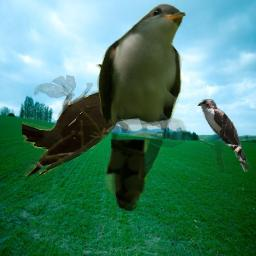Cuckoo: (97, 3, 187, 211), (197, 99, 252, 172)
Woodpecker: (22, 64, 147, 180)
